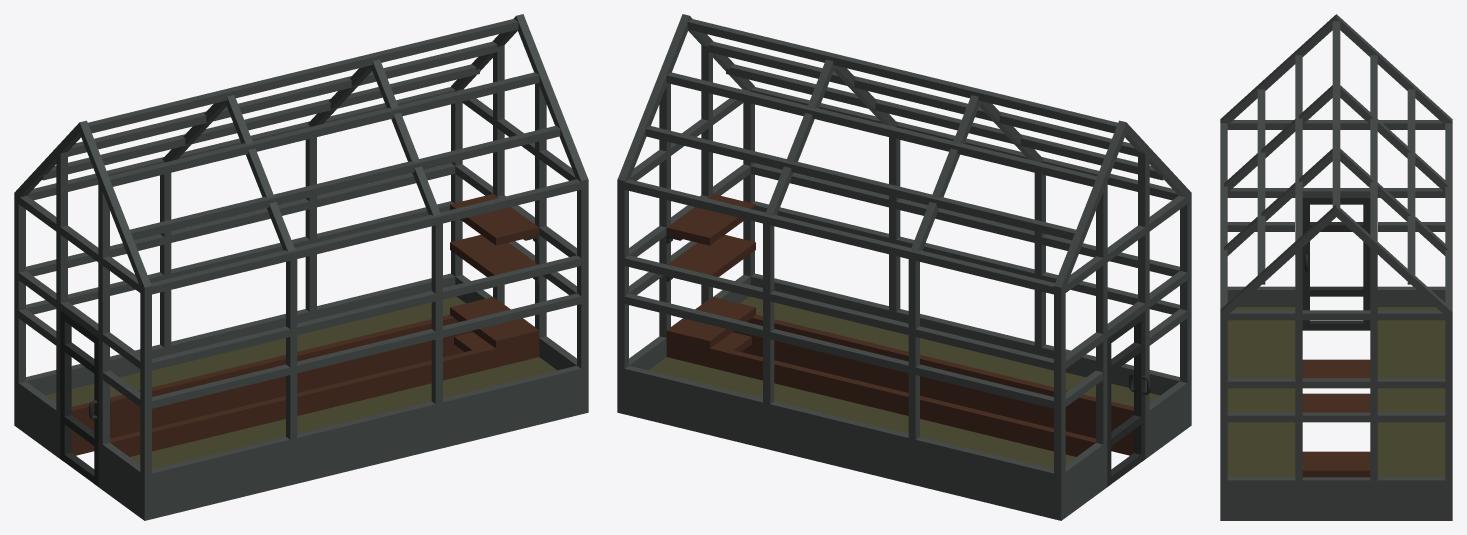
The model's file is Greenhouse.fbx.
The picture shows the model from 3 angles, left to right: view 1: azimuth 30°, elevation 25°; view 2: azimuth 150°, elevation 25°; view 3: azimuth 270°, elevation 25°; orthographic projection. The views are drawn at different scales.
Visible parts, largest first — view 1: greenhouse pole structure, greenhouse door; view 2: greenhouse pole structure, greenhouse door; view 3: greenhouse pole structure, greenhouse door.
Boxes of the visible parts, box(x1,y1,x2,y2) form: greenhouse pole structure: box(14, 14, 588, 520); greenhouse door: box(60, 311, 110, 486); greenhouse pole structure: box(617, 14, 1191, 520); greenhouse door: box(1107, 311, 1150, 486); greenhouse pole structure: box(1220, 14, 1452, 520); greenhouse door: box(1302, 198, 1370, 330).
Size of the model in its own units: 1239 by 922 by 620.
